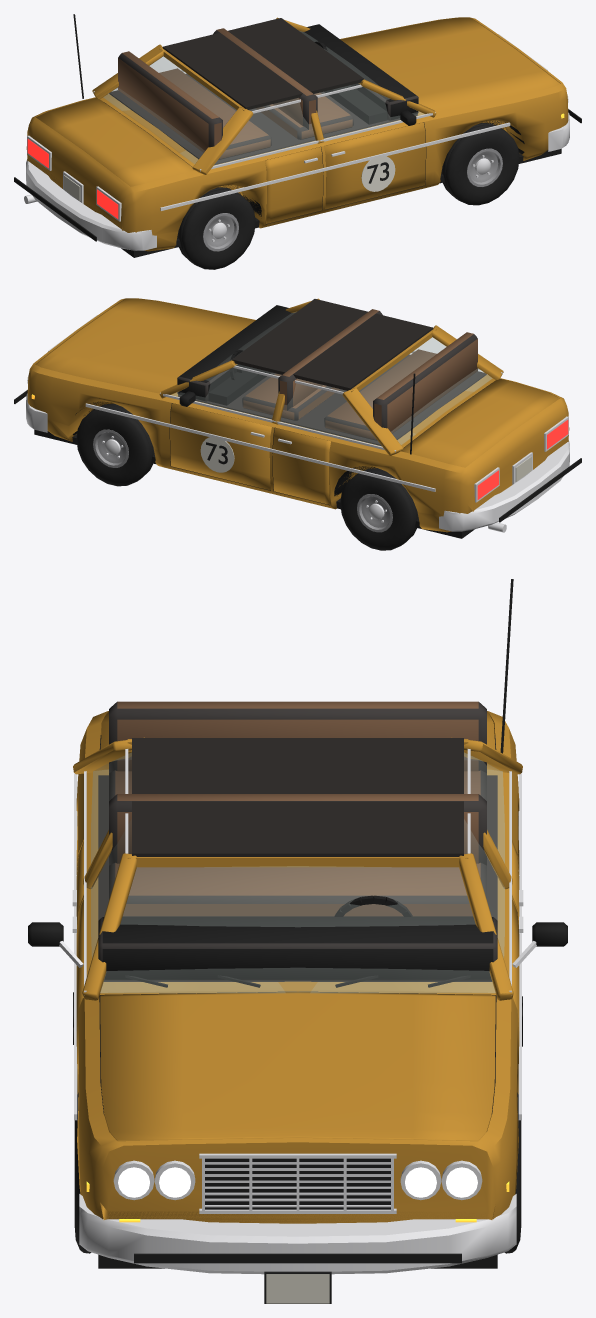
File: derby_sedan_game.glb
The picture shows the model from 3 angles, top to bottom: view 1: azimuth 30°, elevation 25°; view 2: azimuth 150°, elevation 25°; view 3: azimuth 270°, elevation 25°; orthographic projection. The views are drawn at different scales.
Visible parts, largest first — view 1: body, interior, hood, glass, roof, door_R, trunk, wheel_RR, wheel_FR, pillars, bumper_R, chrome_details (+7 smaller); view 2: body, interior, hood, glass, roof, door_L, trunk, wheel_FL, wheel_RL, pillars, bumper_R, chrome_details (+7 smaller); view 3: interior, hood, body, roof, glass, bumper_F, chrome_details, pillars, black_details, bumper_F_rubber, headlamps, window_trim (+3 smaller).
Part boxes in pixels (x1=…): body: x1=26, y1=17, x2=568, y2=251; interior: x1=109, y1=24, x2=418, y2=165; hood: x1=341, y1=17, x2=560, y2=112; glass: x1=103, y1=31, x2=424, y2=165; roof: x1=162, y1=18, x2=363, y2=109; door_R: x1=265, y1=122, x2=425, y2=223; trunk: x1=36, y1=98, x2=194, y2=186; wheel_RR: x1=177, y1=187, x2=255, y2=269; wheel_FR: x1=441, y1=123, x2=519, y2=205; pillars: x1=92, y1=17, x2=436, y2=174; bumper_R: x1=26, y1=159, x2=156, y2=250; chrome_details: x1=24, y1=34, x2=568, y2=221; body: x1=27, y1=298, x2=569, y2=532; interior: x1=177, y1=305, x2=486, y2=446; hood: x1=35, y1=298, x2=255, y2=393; glass: x1=172, y1=312, x2=492, y2=446; roof: x1=232, y1=299, x2=433, y2=390; door_L: x1=170, y1=403, x2=330, y2=504; trunk: x1=401, y1=379, x2=559, y2=467; wheel_FL: x1=76, y1=403, x2=154, y2=486; wheel_RL: x1=340, y1=468, x2=418, y2=550; pillars: x1=159, y1=298, x2=503, y2=455; bumper_R: x1=439, y1=440, x2=569, y2=531; chrome_details: x1=27, y1=315, x2=568, y2=532; interior: x1=98, y1=701, x2=497, y2=981; hood: x1=100, y1=991, x2=495, y2=1141; body: x1=76, y1=711, x2=519, y2=1223; roof: x1=132, y1=738, x2=463, y2=856; glass: x1=91, y1=752, x2=504, y2=992; bumper_F: x1=79, y1=1194, x2=516, y2=1274; chrome_details: x1=59, y1=773, x2=536, y2=1213; pillars: x1=73, y1=737, x2=522, y2=1000; black_details: x1=28, y1=579, x2=567, y2=1303; bumper_F_rubber: x1=134, y1=1253, x2=461, y2=1263; headlamps: x1=118, y1=1167, x2=477, y2=1197; window_trim: x1=84, y1=749, x2=511, y2=995.
Bounding box in the file's own units: 5.36 × 1.95 × 2.57.
